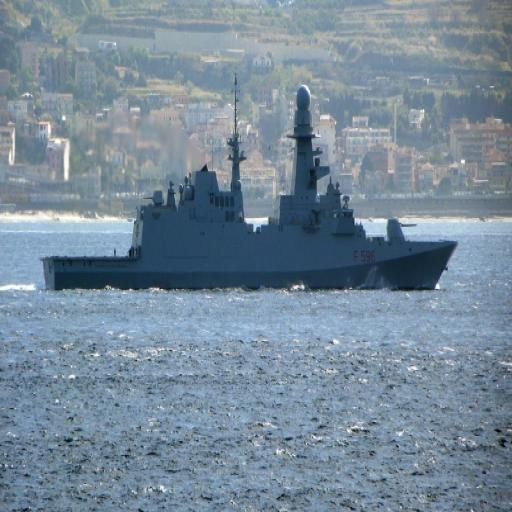Fragata: (41, 66, 461, 298)
